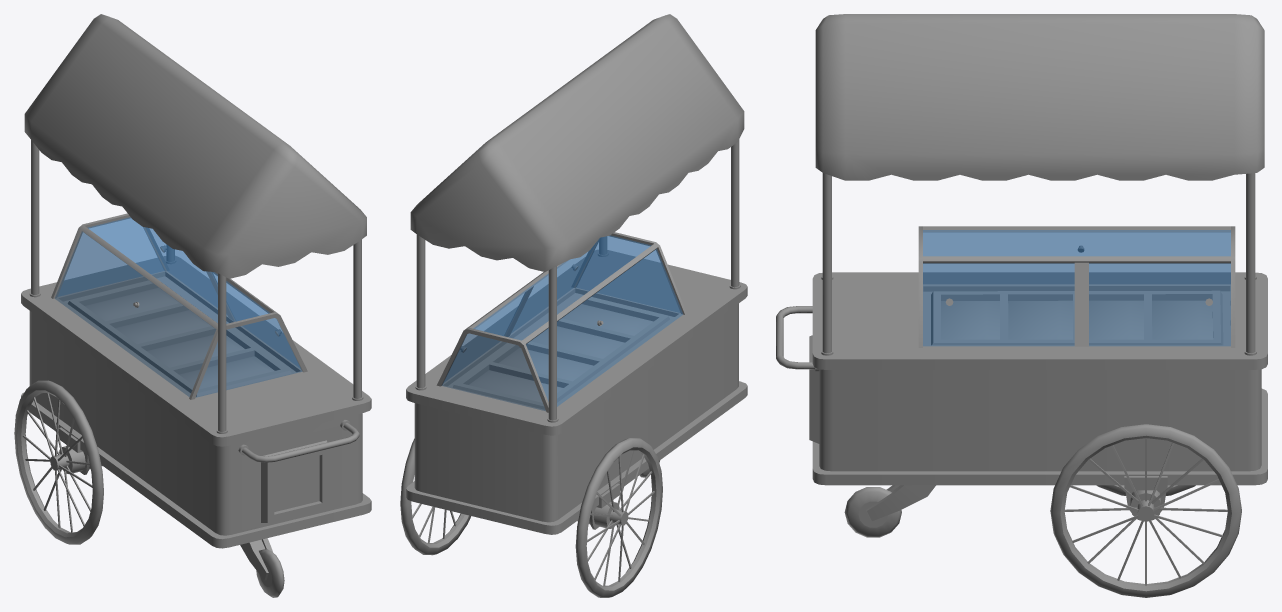
File: SM_icecream.FBX
3 views of the same model, side by side, from view 1: azimuth 30°, elevation 25°; view 2: azimuth 150°, elevation 25°; view 3: azimuth 270°, elevation 25° (orthographic). The views are drawn at different scales.
Visible parts, largest first — view 1: SM_IceCreamWagon, SM_Icecream_Glass, SM_icecream_wheels1, SM_icecream_wheel2; view 2: SM_IceCreamWagon, SM_Icecream_Glass, SM_icecream_wheels1; view 3: SM_IceCreamWagon, SM_Icecream_Glass, SM_icecream_wheels1, SM_icecream_wheel2.
Part boxes in pixels (left/top/right/bottom): SM_IceCreamWagon: left=21, top=14, right=371, bottom=580; SM_Icecream_Glass: left=55, top=217, right=302, bottom=397; SM_icecream_wheels1: left=14, top=380, right=103, bottom=544; SM_icecream_wheel2: left=256, top=549, right=284, bottom=597; SM_IceCreamWagon: left=406, top=14, right=747, bottom=534; SM_Icecream_Glass: left=442, top=235, right=682, bottom=410; SM_icecream_wheels1: left=400, top=438, right=662, bottom=597; SM_IceCreamWagon: left=776, top=14, right=1267, bottom=521; SM_Icecream_Glass: left=923, top=230, right=1230, bottom=345; SM_icecream_wheels1: left=1050, top=424, right=1241, bottom=597; SM_icecream_wheel2: left=844, top=487, right=901, bottom=537.
Bounding box in the file's own units: 73.05 × 172 × 143.
